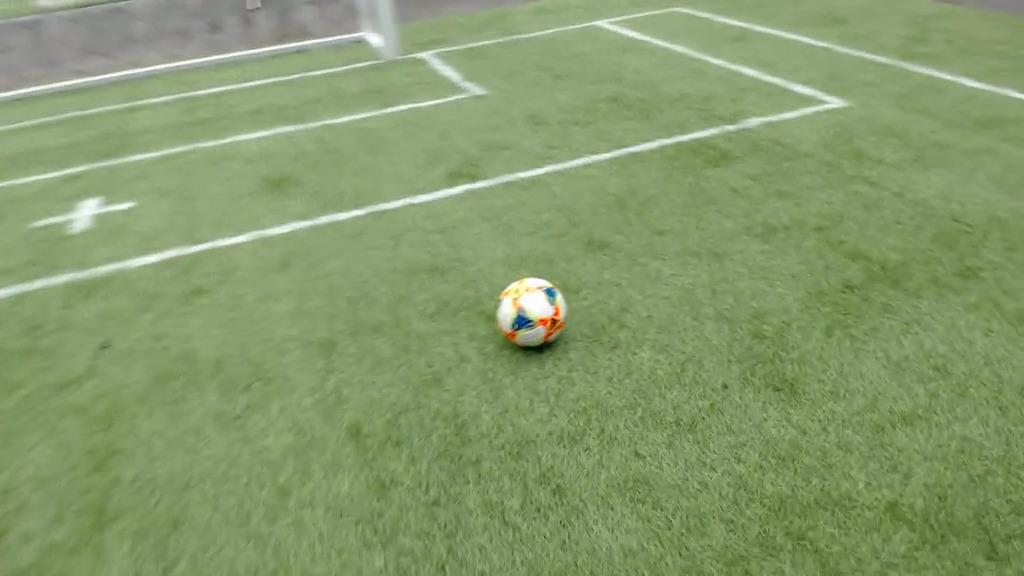ball: (495, 277, 568, 349)
